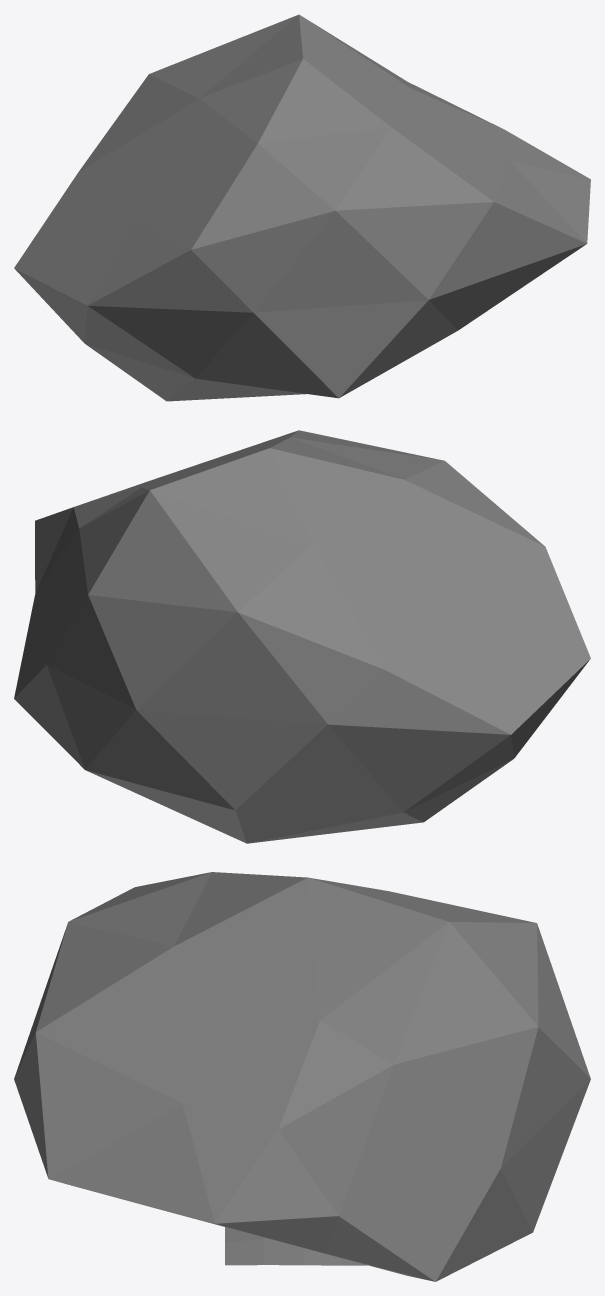
File: rock-l-sharp.glb
The picture shows the model from 3 angles, top to bottom: view 1: azimuth 30°, elevation 25°; view 2: azimuth 150°, elevation 25°; view 3: azimuth 270°, elevation 25°; orthographic projection. The views are drawn at different scales.
Visible parts, largest first — view 1: rock-l-sharp; view 2: rock-l-sharp; view 3: rock-l-sharp, rock-l-sharp-moss1.
Part boxes in pixels (left/top/right/bottom): rock-l-sharp: left=14, top=14, right=590, bottom=401; rock-l-sharp: left=14, top=430, right=590, bottom=843; rock-l-sharp: left=14, top=872, right=590, bottom=1281; rock-l-sharp-moss1: left=225, top=1227, right=367, bottom=1265.
Bounding box in the file's own units: 4.26 × 2.49 × 3.37.
2 materials, 2 textured.
